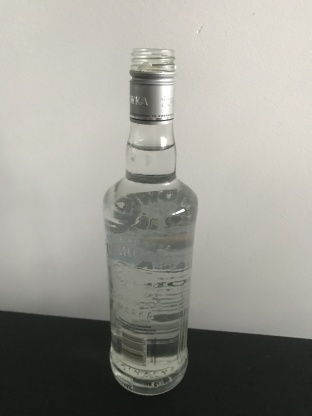nakretka: (127, 45, 176, 126)
